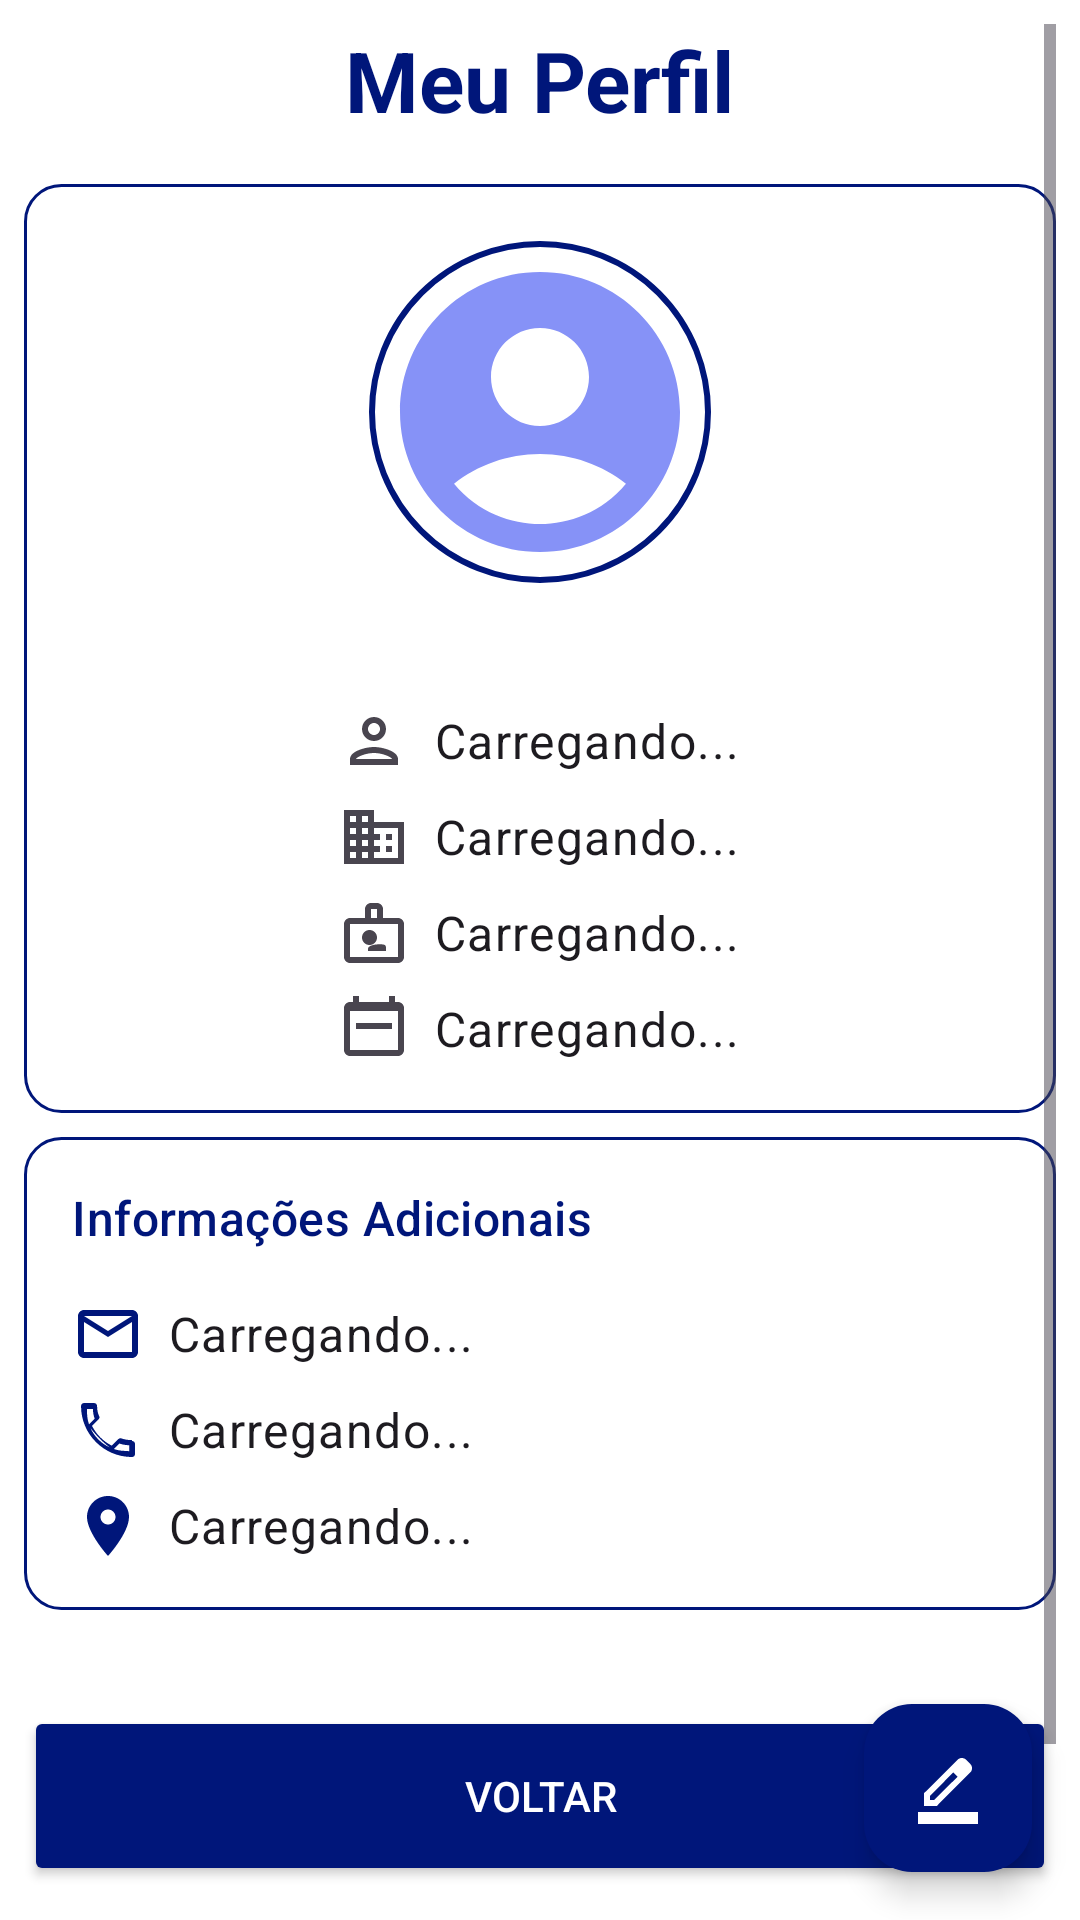

Point at icon controls on the screen. Image size 1080px×1920px, points as [x,y].
account circle: [540,412]
Editar Perfil: [948,1788]
